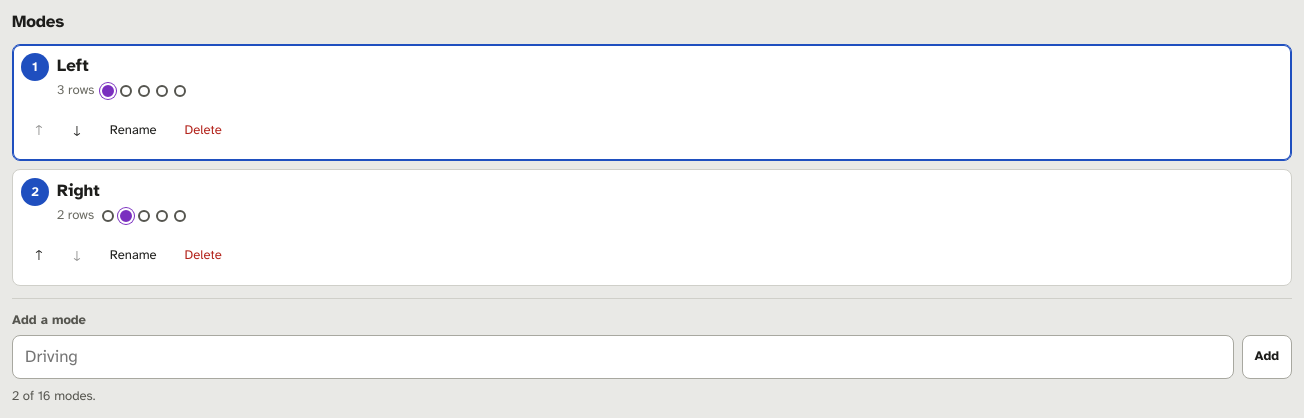
Test: ModeRail › renames a mode, and the label and its game actions follow
The width and height of the screenshot is (1304, 418).
Click the 1st button "Rename" at [133, 130], box [97,108,170,152]
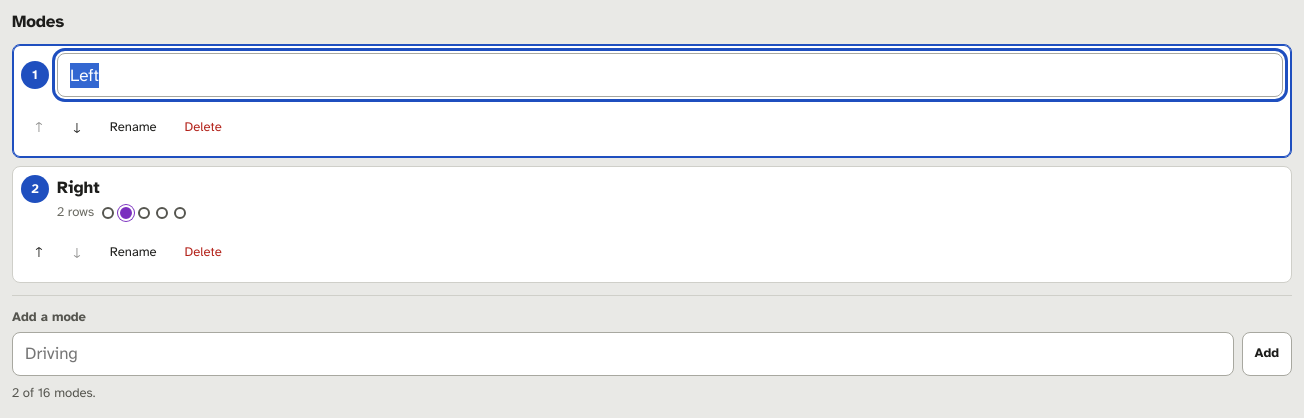
Replace the text in the field named "Rename mode 1" with "Driving" at [670, 75], box [57,53,1283,97]
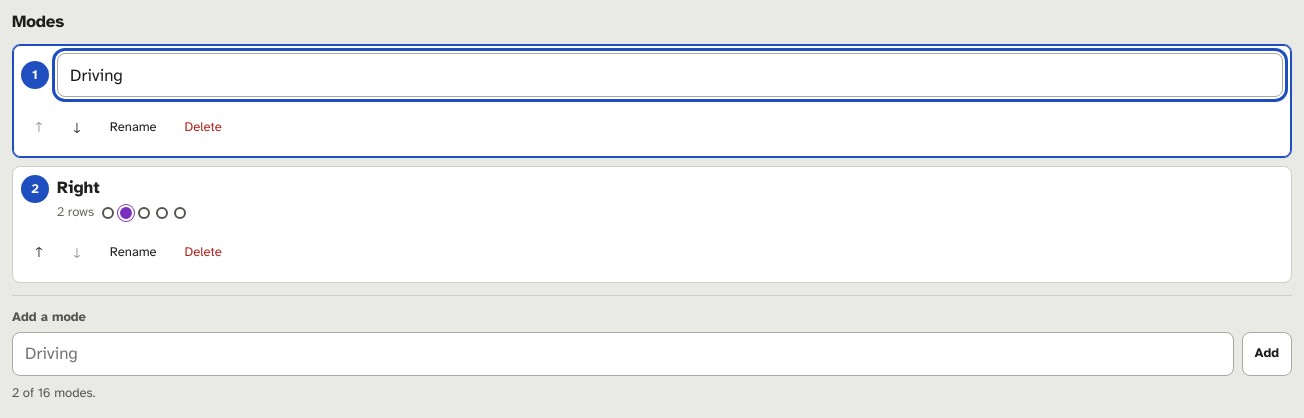
Press Enter in the field named "Rename mode 1", box [57,53,1283,97]
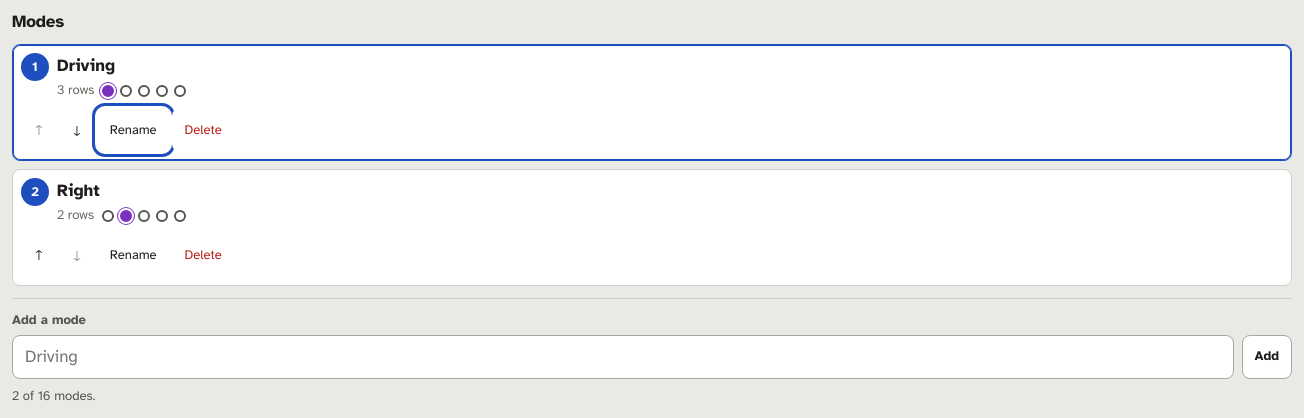
Expected: the text "Driving" is shown, [57,55,115,76]
